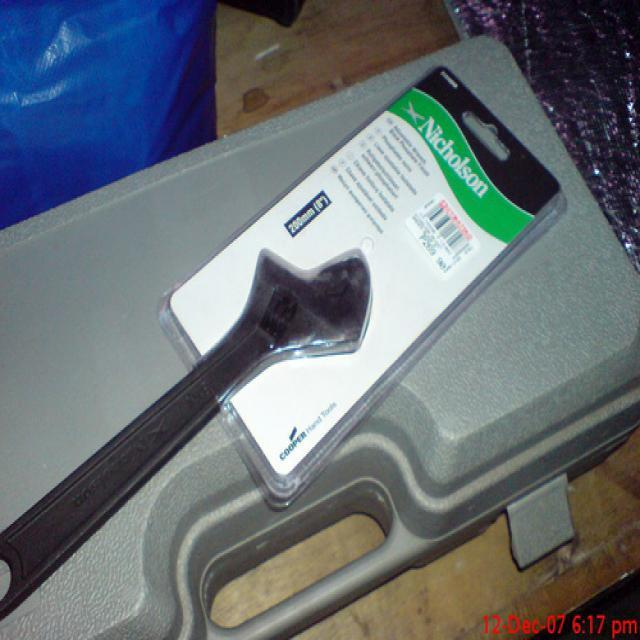wrench: (0, 240, 377, 618)
